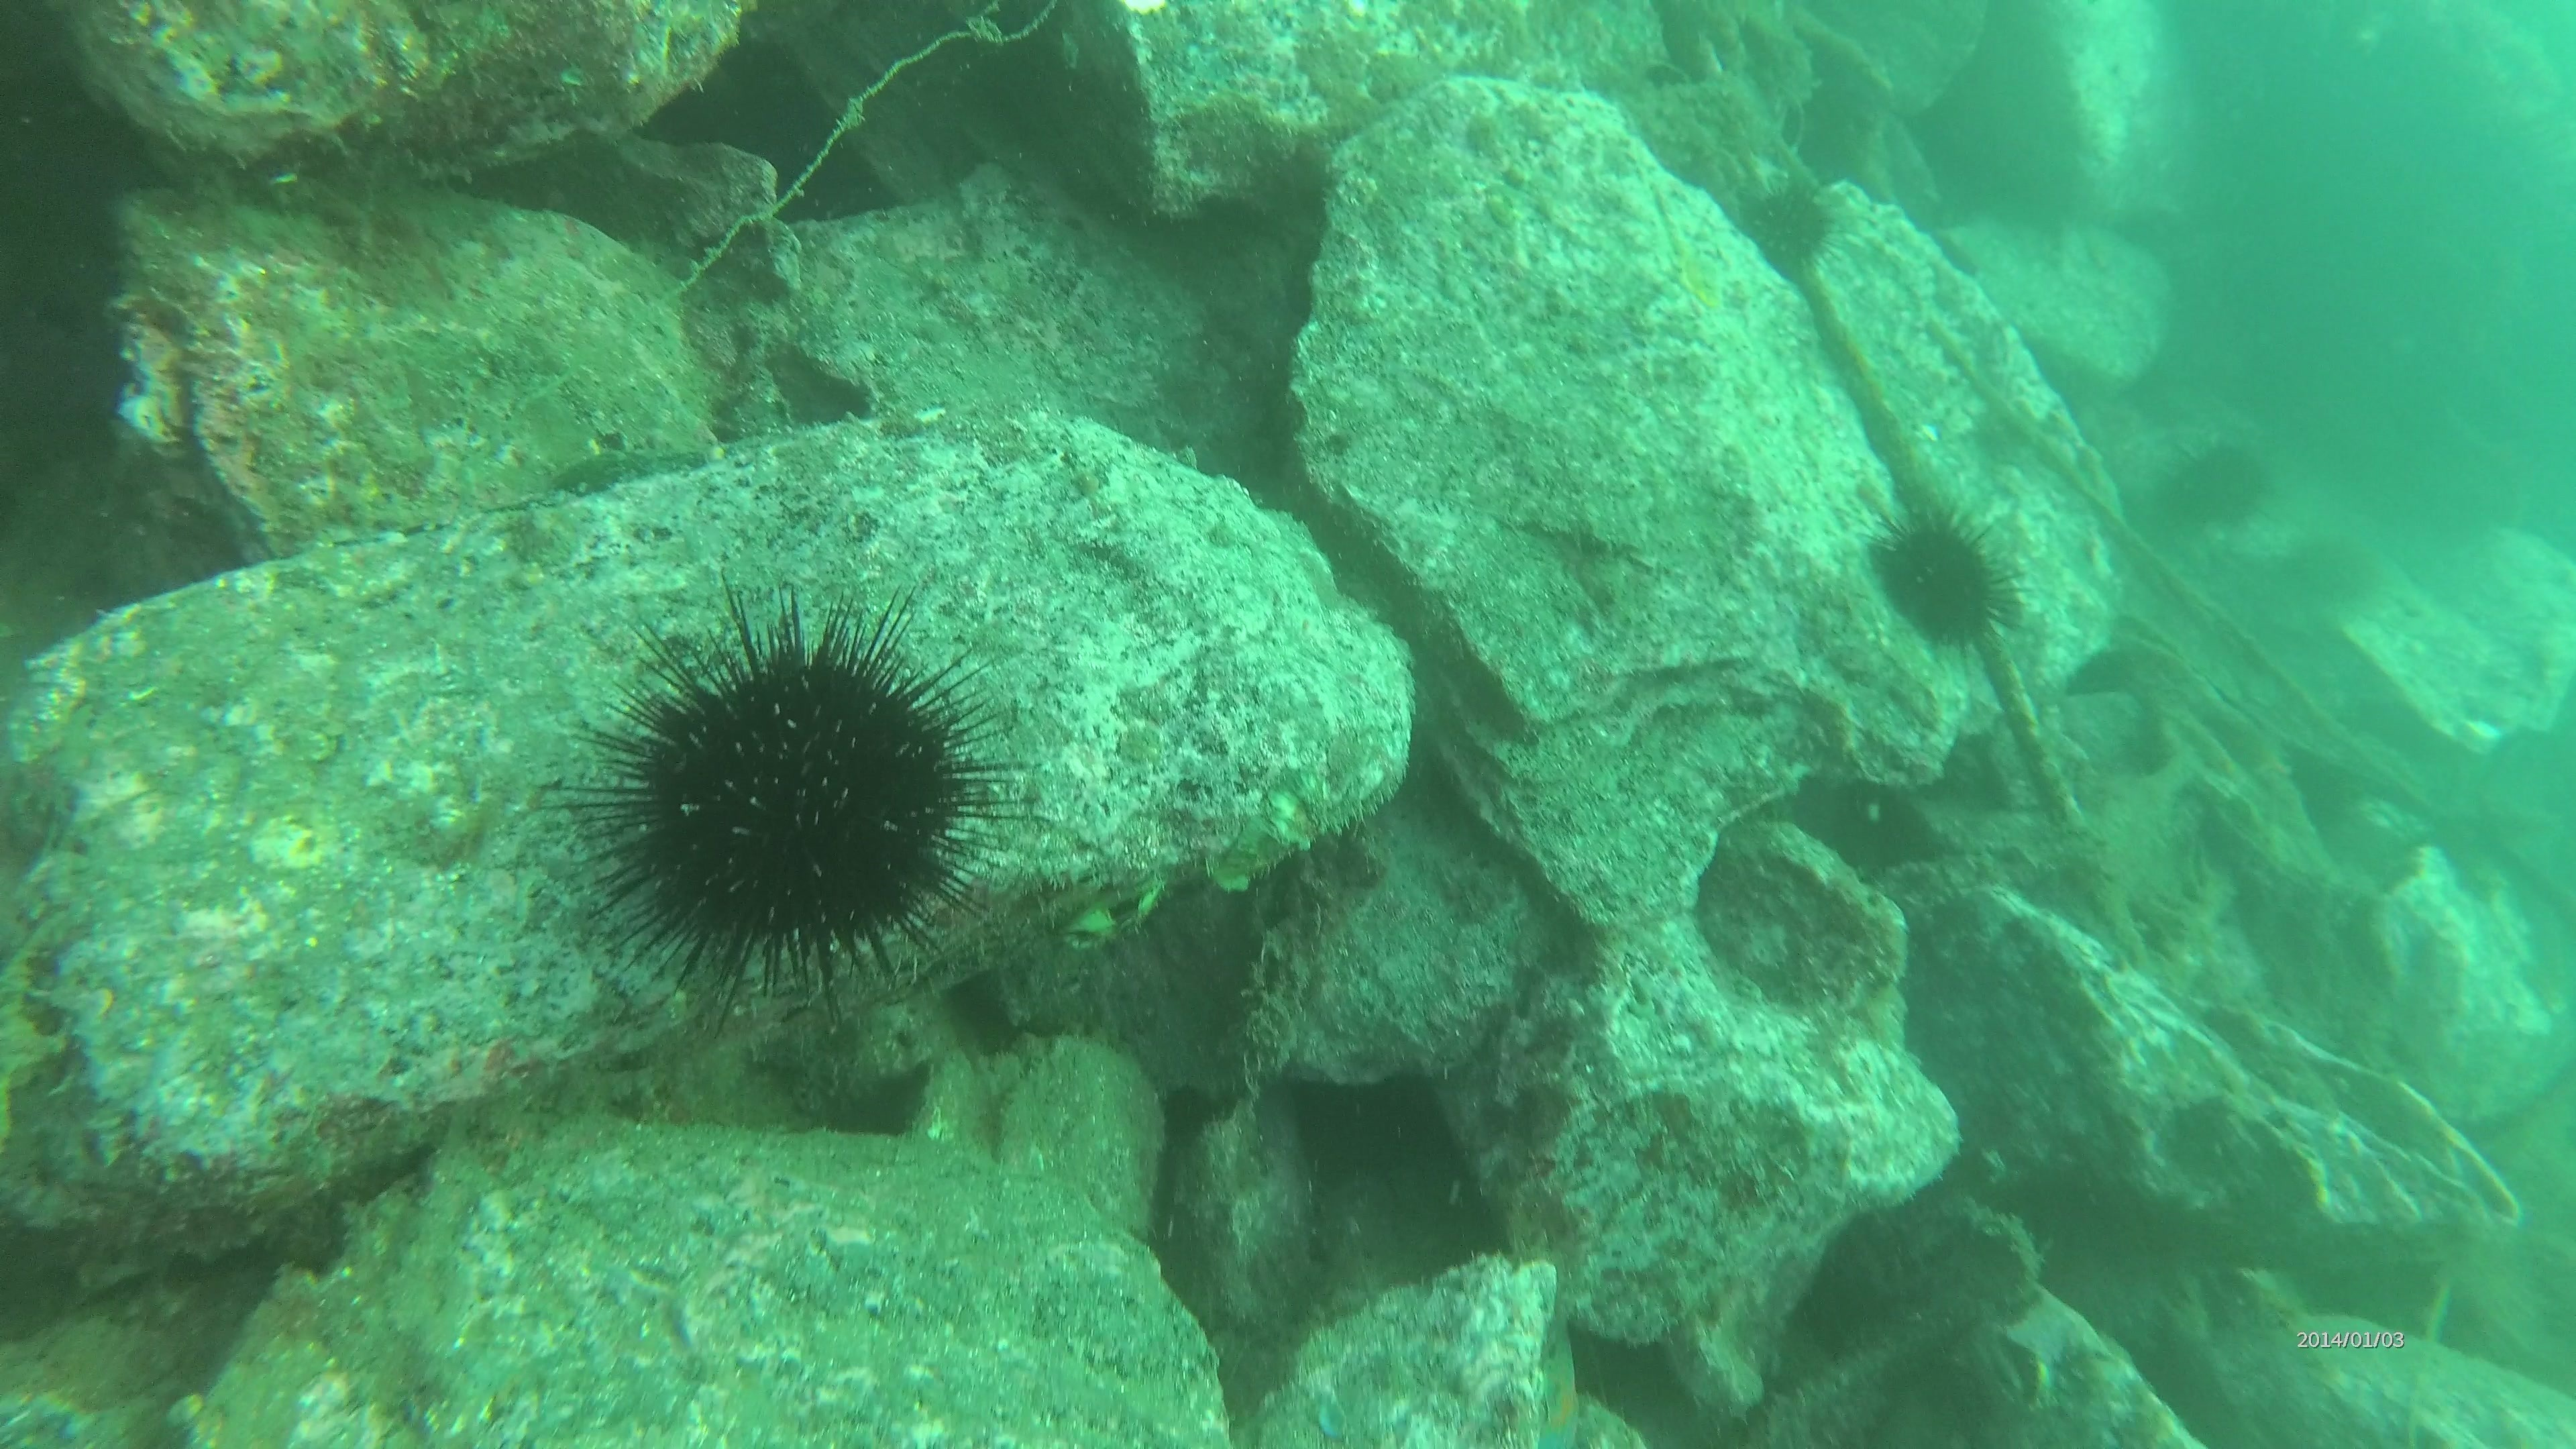echinus: (568, 593, 1008, 1005), (1865, 497, 2024, 655), (1727, 168, 1844, 285), (2151, 432, 2279, 538)
